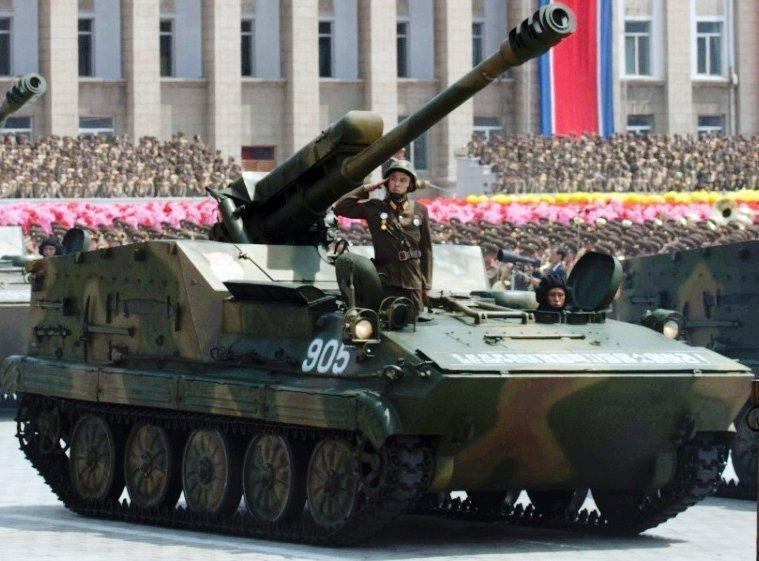MIL_IFV: (3, 5, 759, 542)
